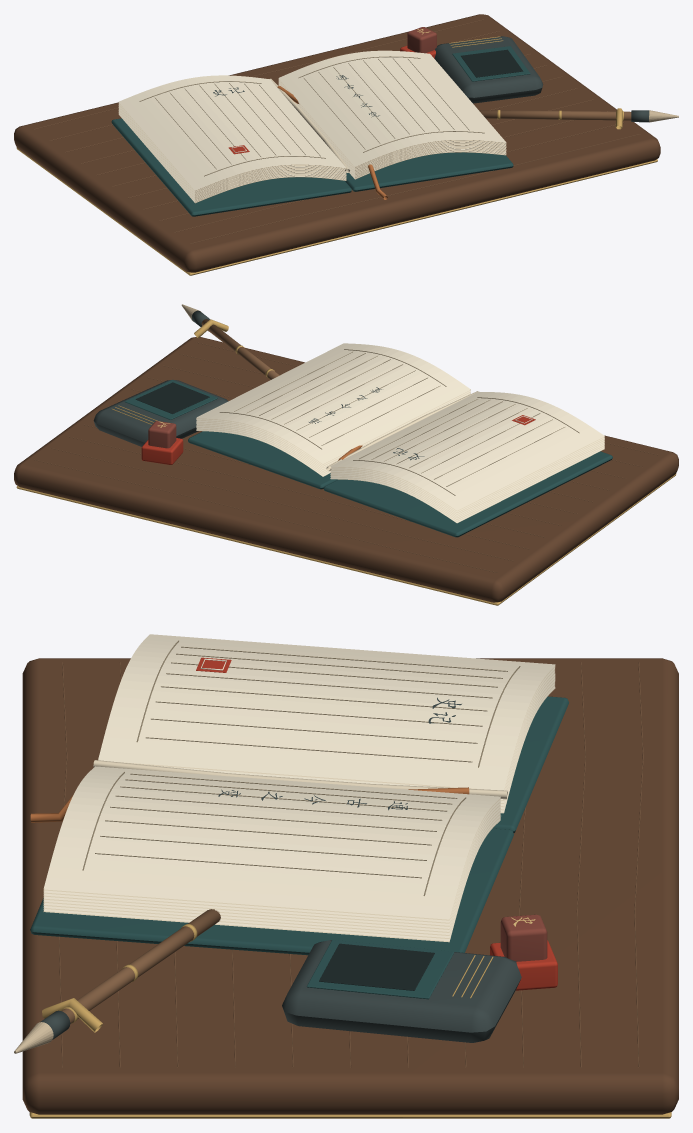
Rendered from reading-desk.glb.
The picture shows the model from 3 angles, top to bottom: view 1: azimuth 30°, elevation 25°; view 2: azimuth 150°, elevation 25°; view 3: azimuth 270°, elevation 25°; orthographic projection. The views are drawn at different scales.
Parts seen in each view (by area): view 1: Walnut display tray, Bowed ivory page 1 23, Bowed ivory page -1 23, Open book cloth board -1, Open book cloth board 1, Inkstone base, Lower bronze rim, Bamboo handle, Glossy ink surface, Inkstone well, Seal handle, Subtle walnut grain (+1 smaller); view 2: Walnut display tray, Bowed ivory page 1 23, Bowed ivory page -1 23, Open book cloth board -1, Open book cloth board 1, Inkstone base, Lower bronze rim, Glossy ink surface, Inkstone well, Bamboo handle, Seal base, Seal handle (+3 smaller); view 3: Walnut display tray, Bowed ivory page -1 23, Bowed ivory page 1 23, Inkstone base, Open book cloth board 1, Glossy ink surface, Open book cloth board -1, Lower bronze rim, Bamboo handle, Inkstone well, Seal handle, Open central binding (+25 smaller).
Boxes of the visible parts, box(x1,y1,x2,y2) form: Walnut display tray: box(14, 14, 660, 272); Bowed ivory page 1 23: box(279, 50, 506, 166); Bowed ivory page -1 23: box(119, 75, 345, 190); Open book cloth board -1: box(111, 118, 351, 216); Open book cloth board 1: box(345, 152, 513, 191); Inkstone base: box(434, 36, 543, 103); Lower bronze rim: box(16, 147, 657, 275); Bamboo handle: box(479, 110, 631, 120); Glossy ink surface: box(461, 49, 523, 77); Inkstone well: box(452, 46, 530, 81); Seal handle: box(407, 27, 436, 53); Subtle walnut grain: box(190, 134, 640, 243); Walnut display tray: box(14, 337, 678, 602); Bowed ivory page 1 23: box(196, 343, 470, 463); Bowed ivory page -1 23: box(330, 391, 604, 510); Open book cloth board -1: box(323, 451, 612, 537); Open book cloth board 1: box(188, 431, 337, 489); Inkstone base: box(93, 379, 228, 446); Lower bronze rim: box(16, 473, 676, 605); Glossy ink surface: box(135, 382, 209, 413); Inkstone well: box(124, 380, 217, 419); Bamboo handle: box(201, 319, 279, 379); Seal base: box(141, 438, 183, 464); Seal handle: box(148, 421, 176, 448); Walnut display tray: box(22, 658, 678, 1114); Bowed ivory page -1 23: box(98, 634, 555, 789); Bowed ivory page 1 23: box(44, 766, 500, 918); Inkstone base: box(282, 940, 521, 1042); Open book cloth board 1: box(30, 828, 513, 955); Glossy ink surface: box(319, 943, 434, 990); Open book cloth board -1: box(492, 696, 568, 832); Lower bronze rim: box(29, 1112, 671, 1118); Bamboo handle: box(61, 909, 220, 1023); Inkstone well: box(307, 940, 454, 999); Seal handle: box(500, 914, 547, 961); Open central binding: box(93, 760, 507, 799).
Size of the model in its own units: 5.7 by 0.747 by 3.65.
